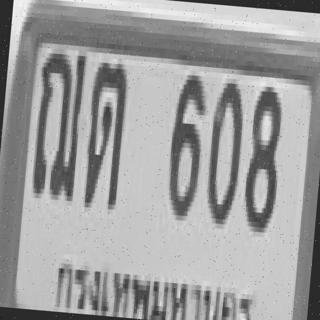A12: (29, 43, 86, 196)
A21: (81, 54, 128, 202)
N00: (203, 75, 244, 217)
N06: (164, 66, 205, 214)
N08: (240, 81, 284, 228)
